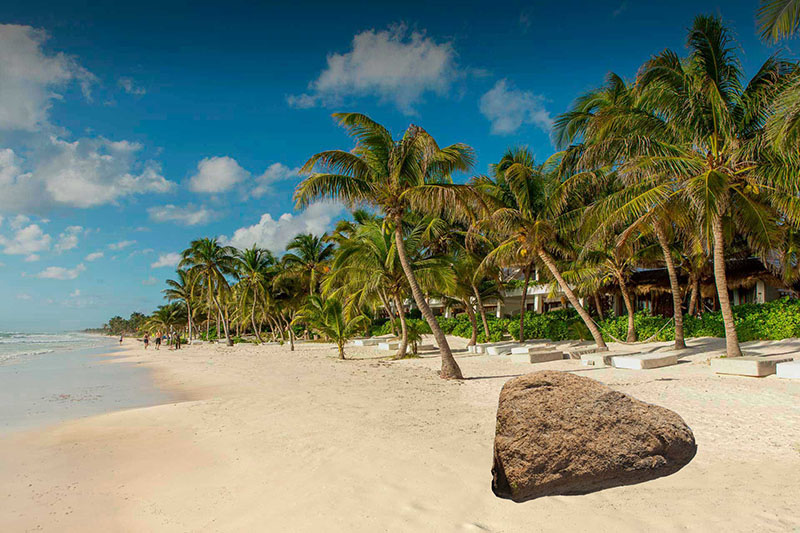Rocks: (487, 366, 703, 509)
